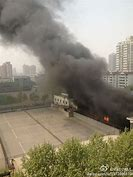smoke: (1, 1, 132, 105)
